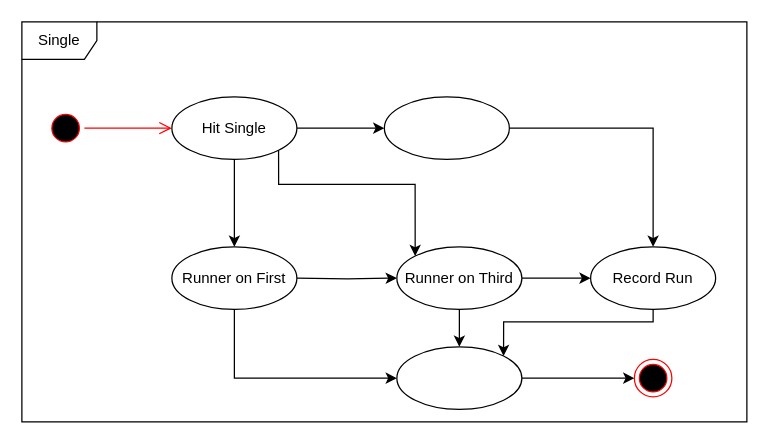
Image size: 769x444. Some labels were removed from this diagram. Here are the shapes that lost their labels. From the top down, the box of each, then its label:
(383, 96, 509, 159): Runner on Second
(396, 346, 522, 409): Record Hit
